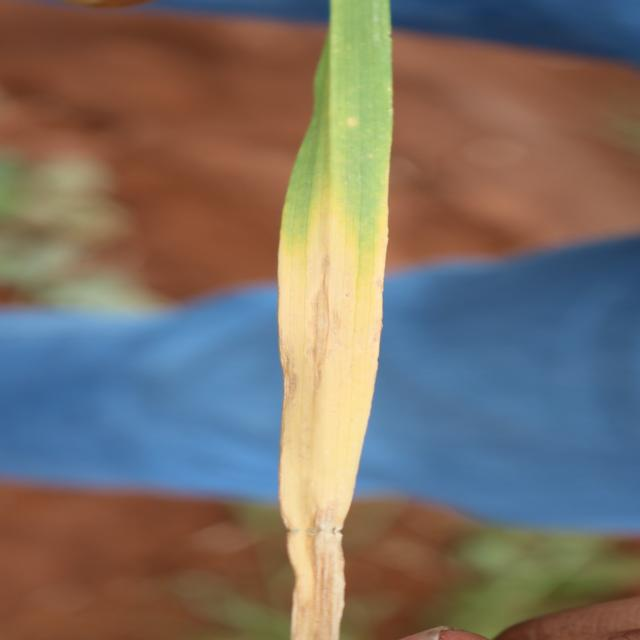Septoria: (274, 1, 396, 638)
